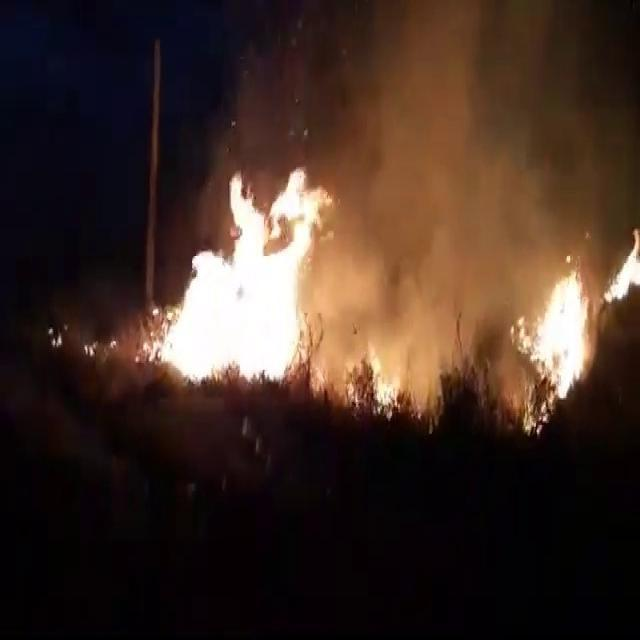Fire: (142, 174, 326, 397), (517, 268, 605, 422), (605, 222, 640, 306)
Smoke: (284, 10, 640, 286), (315, 1, 543, 392), (40, 250, 154, 454), (637, 218, 640, 228)
